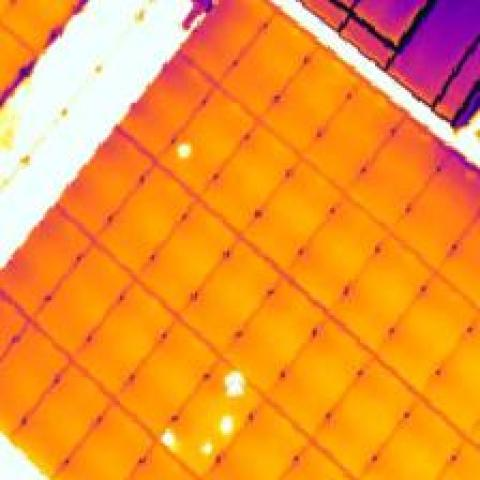fault: (220, 364, 250, 403), (156, 424, 178, 450), (214, 414, 240, 435), (174, 139, 195, 161), (197, 437, 217, 457)
